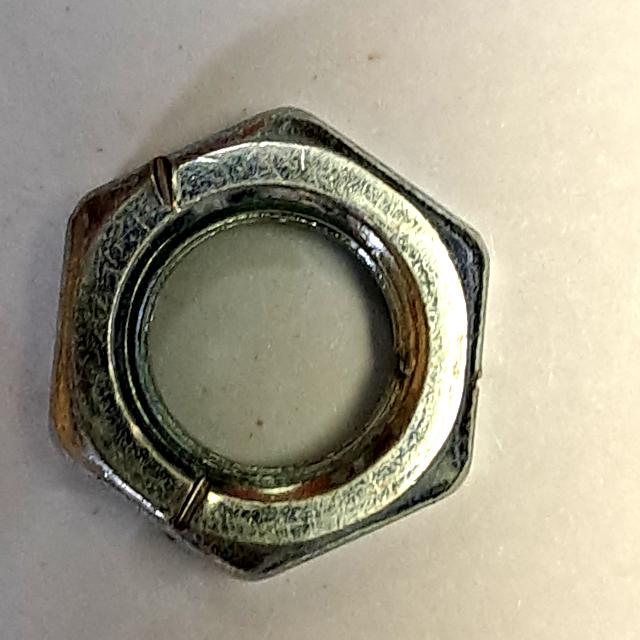Scratches: (34, 98, 500, 596)
